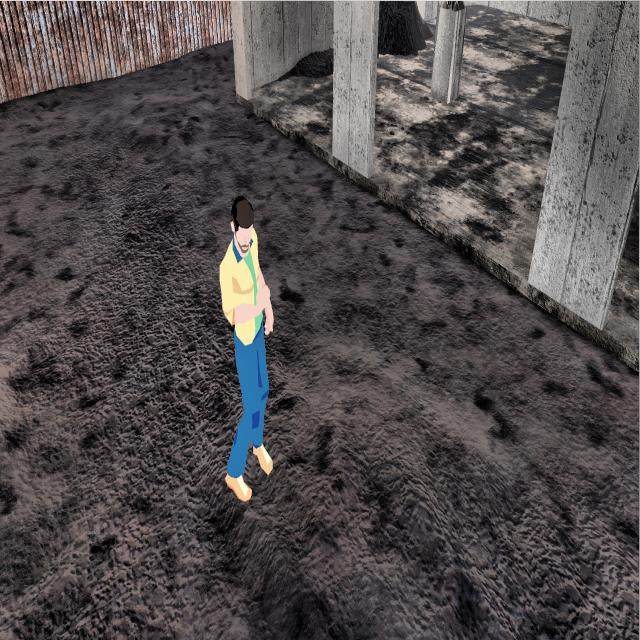good: (204, 178, 284, 504)
